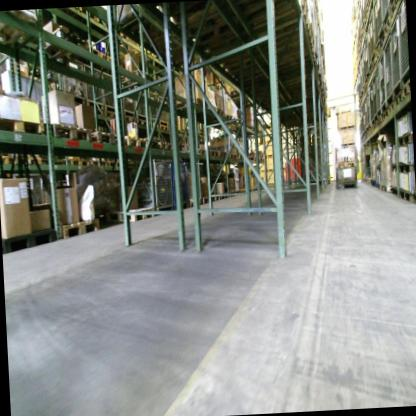pallet: (2, 232, 56, 253), (0, 113, 44, 137), (52, 120, 92, 146), (61, 220, 99, 241), (105, 207, 153, 222), (91, 127, 115, 147), (124, 134, 148, 149), (149, 136, 162, 150), (393, 91, 403, 108), (401, 80, 410, 98), (104, 110, 119, 120), (337, 162, 356, 169), (90, 45, 100, 57), (123, 113, 135, 123), (100, 51, 110, 62), (147, 119, 157, 130), (225, 113, 234, 122), (199, 149, 209, 157), (136, 119, 147, 126), (158, 124, 169, 131), (229, 151, 238, 159), (209, 149, 218, 157), (217, 108, 225, 117), (381, 109, 387, 120), (162, 143, 171, 150), (387, 104, 393, 114), (218, 150, 227, 156), (378, 116, 381, 126), (375, 119, 378, 128), (372, 123, 375, 131), (369, 127, 371, 135)
stillage: (128, 155, 174, 217), (60, 54, 85, 105), (389, 14, 402, 97), (83, 63, 103, 112), (398, 0, 409, 78), (383, 34, 393, 106), (133, 85, 148, 126), (101, 71, 114, 113), (121, 81, 135, 117), (378, 51, 386, 113), (374, 63, 382, 119), (146, 91, 158, 128), (155, 96, 168, 127), (368, 9, 375, 64), (372, 0, 379, 54), (377, 0, 384, 42), (366, 25, 372, 73), (369, 80, 375, 125), (372, 73, 377, 122), (366, 87, 371, 128), (382, 0, 389, 28), (364, 93, 369, 132), (361, 57, 365, 90), (363, 51, 367, 83), (365, 43, 368, 78), (363, 101, 366, 134), (361, 105, 364, 136), (388, 0, 395, 9), (360, 67, 362, 96)
